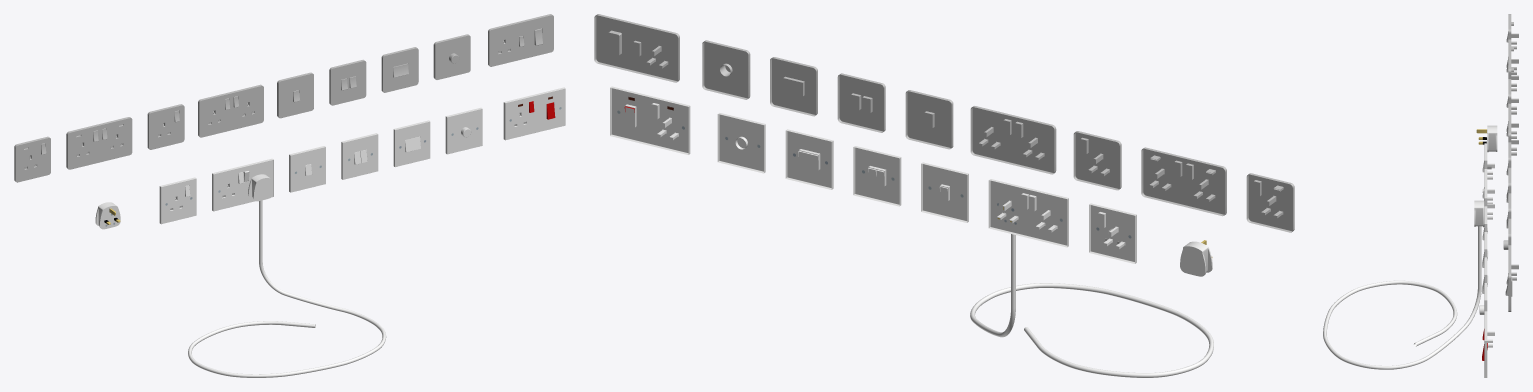
The model's file is uk_electricals.fbx.
3 views of the same model, side by side, from view 1: azimuth 30°, elevation 25°; view 2: azimuth 150°, elevation 25°; view 3: azimuth 270°, elevation 25° (orthographic). The views are drawn at different scales.
Parts seen in each view (by area): view 1: uk_plug.001, uk_cooker_switch_white, uk_cooker_switch_silver, uk_2_gang_socket_usb_silver, uk_2_gang_socket_silver, uk_2_gang_socket_white, uk_2_gang_light_switch_white, uk_2_gang_light_switch_silver, uk_1_gang_socket_white, uk_dimmer_white, uk_dimmer_silver, uk_1_gang_light_switch_white (+6 smaller); view 2: uk_cooker_switch_white, uk_cooker_switch_silver, uk_plug.001, uk_2_gang_socket_white, uk_2_gang_socket_silver, uk_2_gang_socket_usb_silver, uk_2_gang_light_switch_white, uk_isolator_white, uk_dimmer_white, uk_1_gang_light_switch_white, uk_1_gang_socket_white, uk_dimmer_silver (+8 smaller); view 3: uk_plug.001, uk_cooker_switch_white, uk_cooker_switch_silver, uk_2_gang_socket_white, uk_plug, uk_2_gang_socket_usb_silver_inset, uk_1_gang_socket_white, uk_2_gang_socket_usb_silver, uk_2_gang_socket_silver.
Boxes of the visible parts, <box> form: uk_plug.001: <box>188,174,386,377</box>; uk_cooker_switch_white: <box>503,87,565,140</box>; uk_cooker_switch_silver: <box>488,14,553,66</box>; uk_2_gang_socket_usb_silver: <box>66,117,132,169</box>; uk_2_gang_socket_silver: <box>198,84,263,137</box>; uk_2_gang_socket_white: <box>212,158,273,211</box>; uk_2_gang_light_switch_white: <box>341,133,378,179</box>; uk_2_gang_light_switch_silver: <box>329,59,366,105</box>; uk_1_gang_socket_white: <box>159,177,196,224</box>; uk_dimmer_white: <box>445,107,482,154</box>; uk_dimmer_silver: <box>433,34,470,79</box>; uk_1_gang_light_switch_white: <box>289,146,325,192</box>; uk_cooker_switch_white: <box>610,86,690,154</box>; uk_cooker_switch_silver: <box>594,14,679,82</box>; uk_plug.001: <box>970,198,1213,377</box>; uk_2_gang_socket_white: <box>988,179,1068,247</box>; uk_2_gang_socket_silver: <box>970,106,1056,174</box>; uk_2_gang_socket_usb_silver: <box>1141,147,1226,216</box>; uk_2_gang_light_switch_white: <box>853,146,901,206</box>; uk_isolator_white: <box>785,129,833,189</box>; uk_dimmer_white: <box>717,113,765,173</box>; uk_1_gang_light_switch_white: <box>921,162,968,222</box>; uk_1_gang_socket_white: <box>1089,203,1136,263</box>; uk_dimmer_silver: <box>702,40,750,99</box>; uk_plug.001: <box>1323,200,1484,369</box>; uk_cooker_switch_white: <box>1482,311,1494,377</box>; uk_cooker_switch_silver: <box>1505,245,1512,311</box>; uk_2_gang_socket_white: <box>1482,169,1494,219</box>; uk_plug: <box>1487,125,1497,152</box>; uk_2_gang_socket_usb_silver_inset: <box>1511,47,1518,91</box>; uk_1_gang_socket_white: <box>1484,143,1494,179</box>; uk_2_gang_socket_usb_silver: <box>1506,39,1511,78</box>; uk_2_gang_socket_silver: <box>1506,103,1511,142</box>.
Size of the model in its own units: 130 by 48.39 by 40.94.
